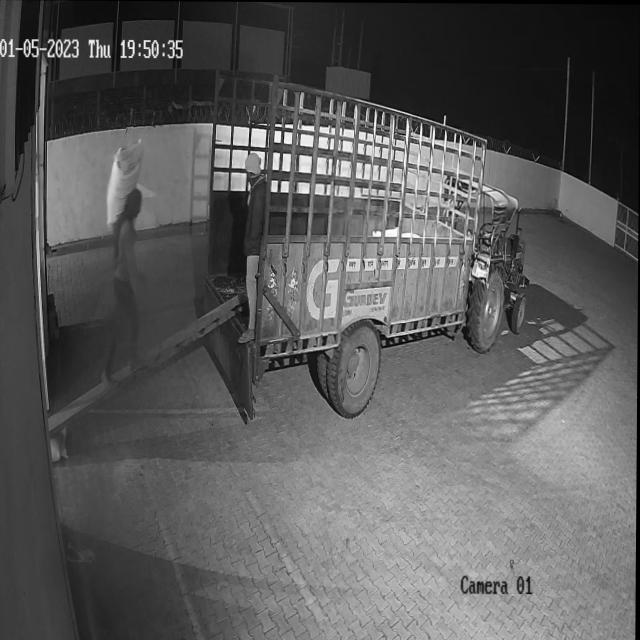sack: (106, 138, 144, 230)
